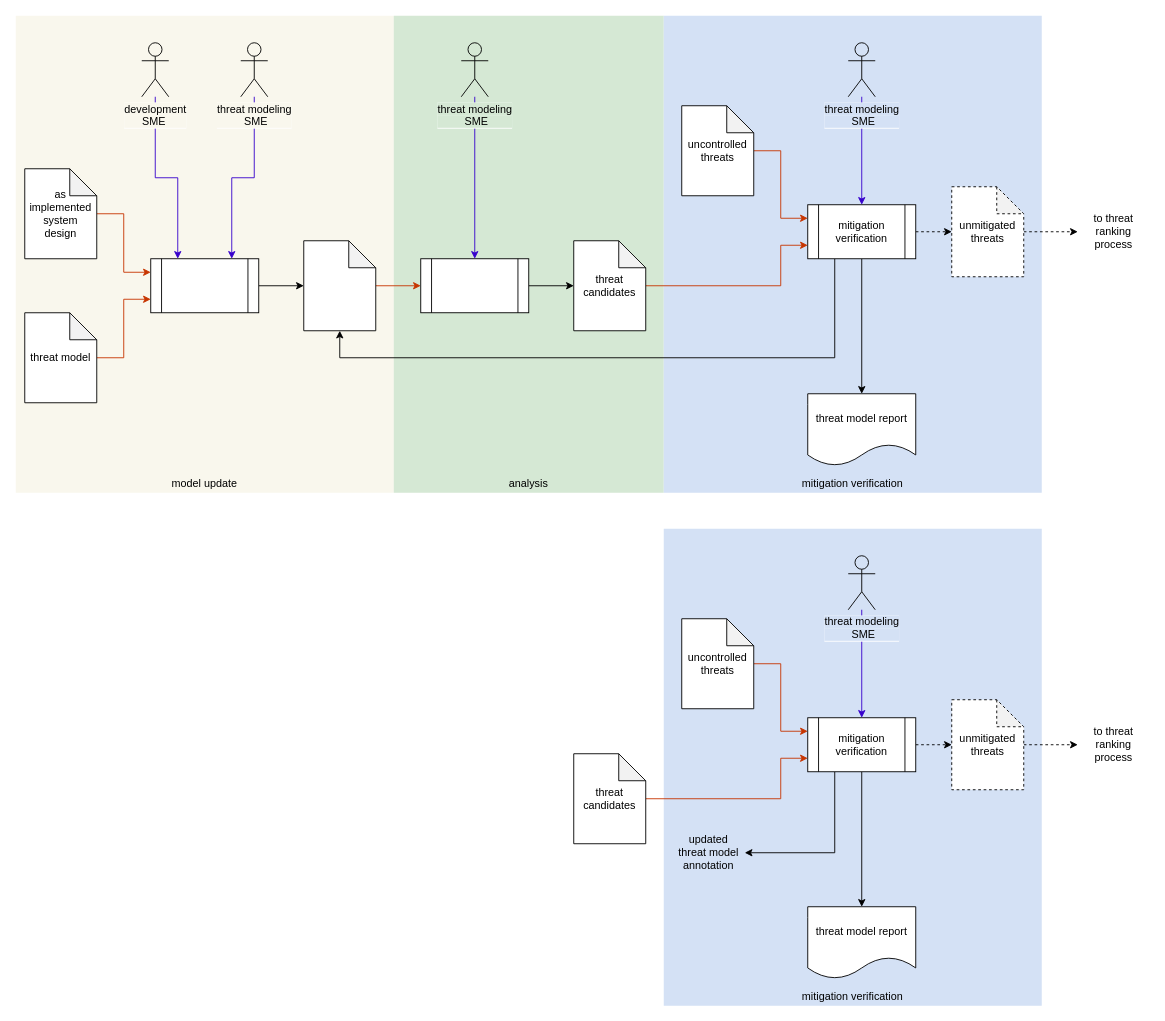
Some shapes in this 1165 by 1021 pixel diagram are drawn without their labels. The box of each missing label's shape, as (x1, y1, x2, y2) in pixels:
threat model analysis: (420, 258, 529, 313)
threat model update: (150, 258, 259, 313)
updated threat model: (303, 240, 376, 331)
